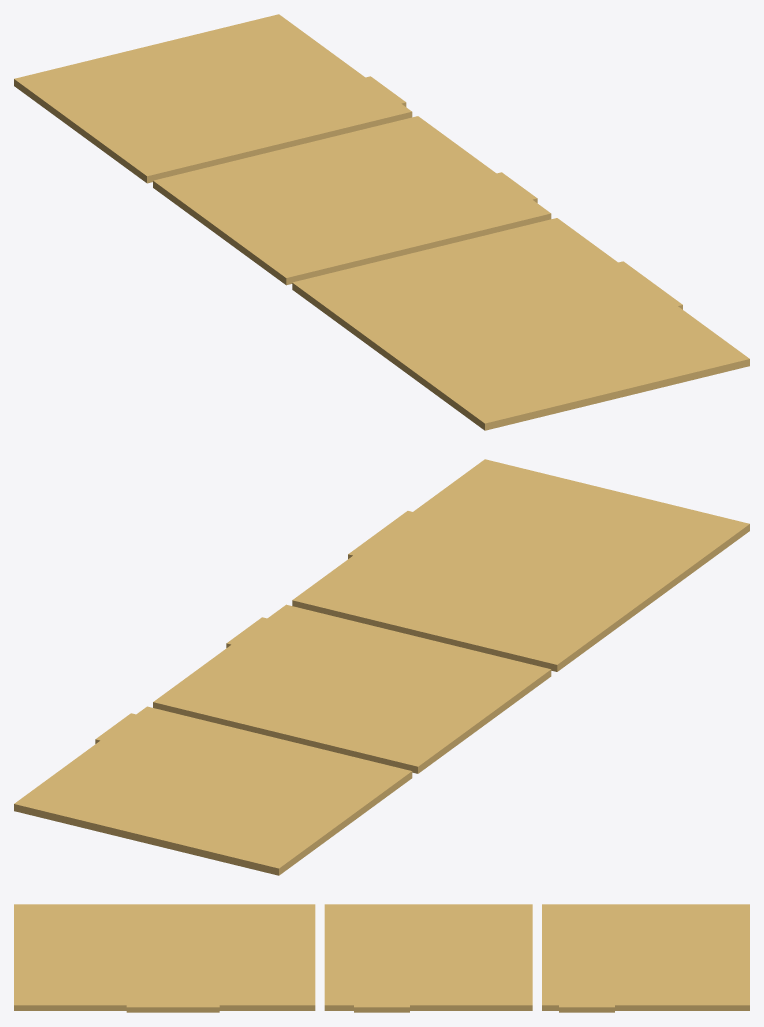
The model's file is Joglo_part_14.fbx.
The picture shows the model from 3 angles, top to bottom: view 1: azimuth 30°, elevation 25°; view 2: azimuth 150°, elevation 25°; view 3: azimuth 270°, elevation 25°; orthographic projection. The views are drawn at different scales.
Parts seen in each view (by area): view 1: Mesh110_Paint___Golden_Ochre_0.001; view 2: Mesh110_Paint___Golden_Ochre_0.001; view 3: Mesh110_Paint___Golden_Ochre_0.001.
Part boxes in pixels (x1,y1,x2,y2): Mesh110_Paint___Golden_Ochre_0.001: (14, 14, 749, 430); Mesh110_Paint___Golden_Ochre_0.001: (14, 459, 749, 875); Mesh110_Paint___Golden_Ochre_0.001: (14, 904, 749, 1012).
Size of the model in its own units: 155 by 3.94 by 467.
